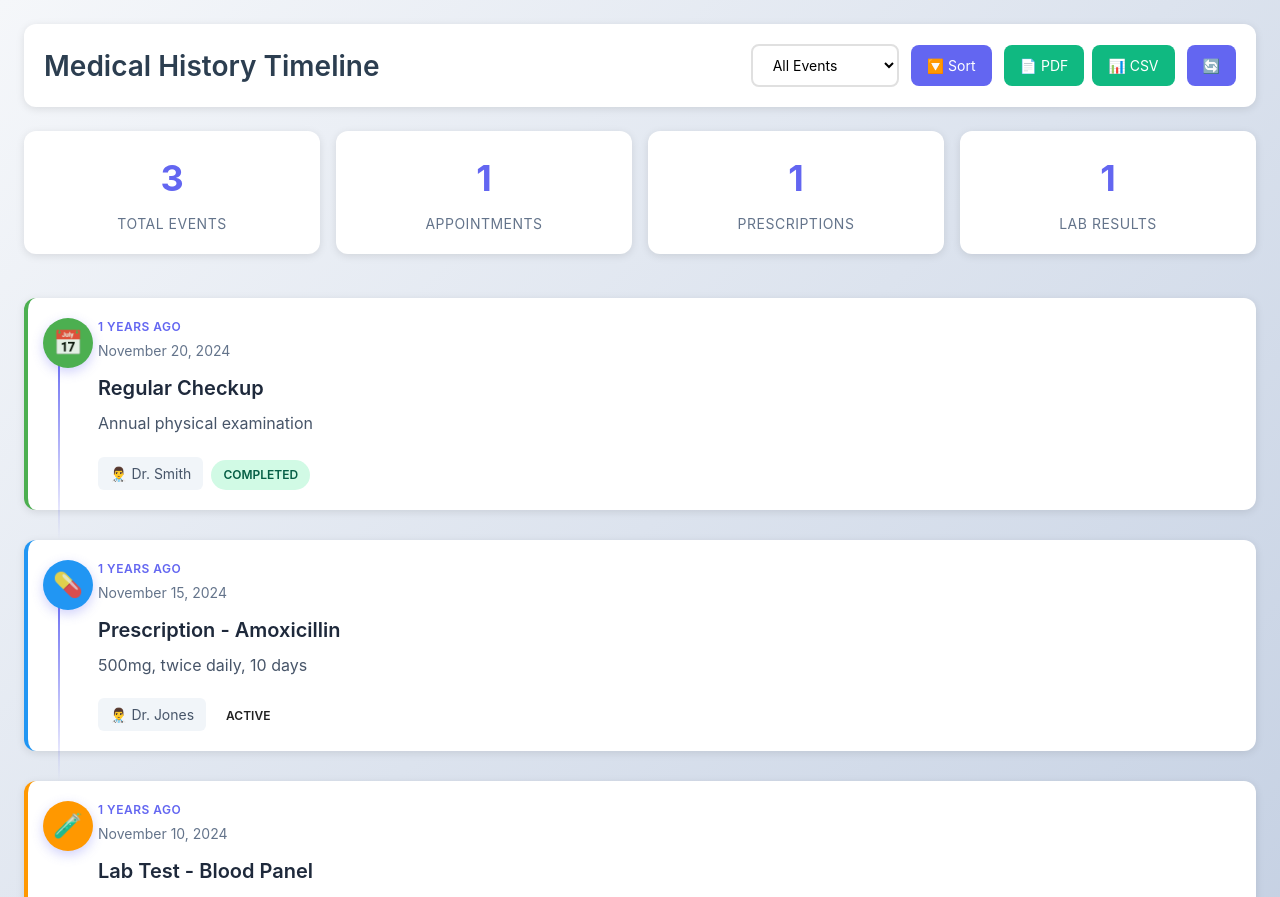
it: MedicalHistoryTimeline › opens event details modal
The width and height of the screenshot is (1280, 897).
Click the heading "Regular Checkup".
click(181, 388)  # box x1=98 y1=376 x2=264 y2=400
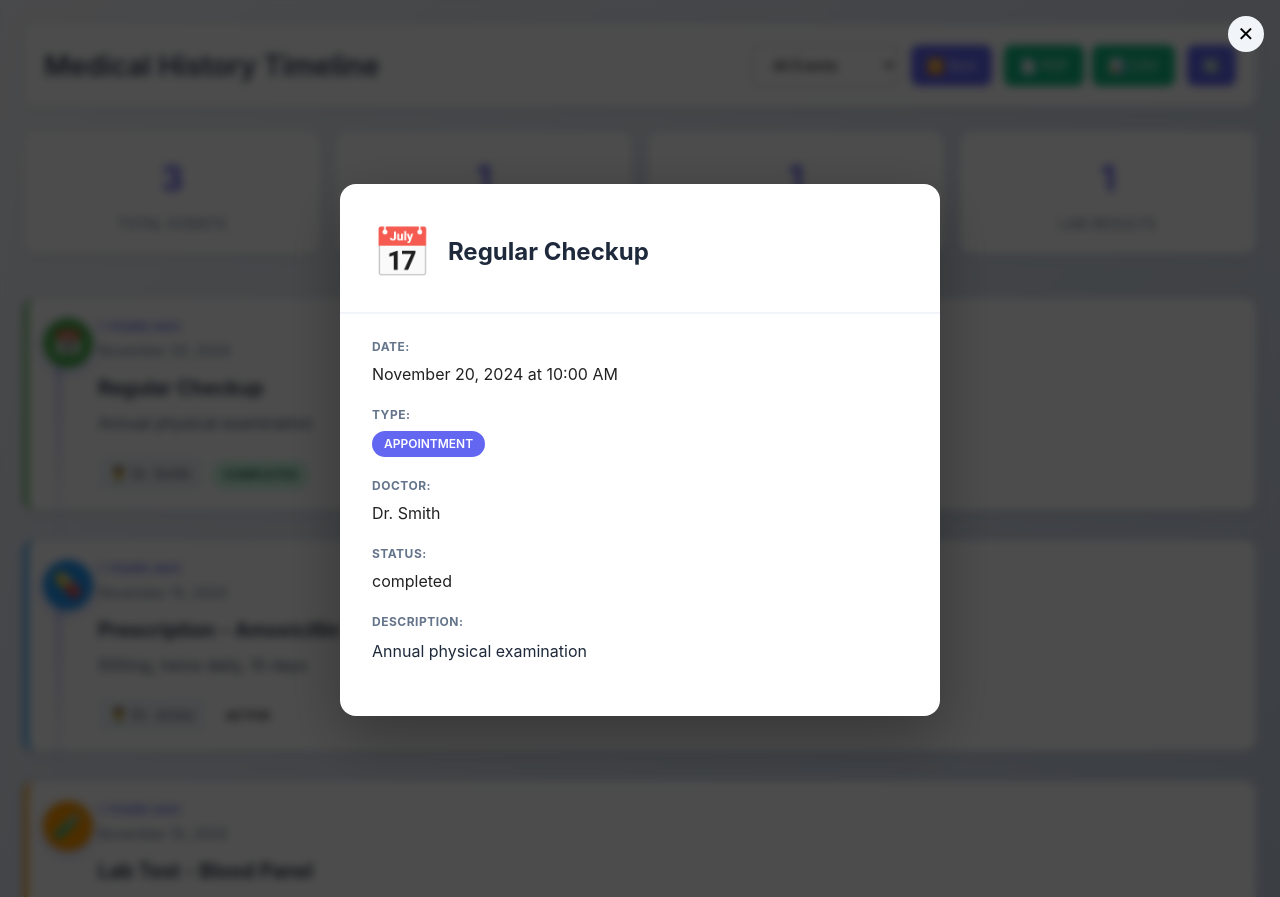
Now the text "Type:" is shown, box x1=372 y1=407 x2=410 y2=422
Now the text "Dr. Smith" is shown, box x1=372 y1=503 x2=440 y2=523
